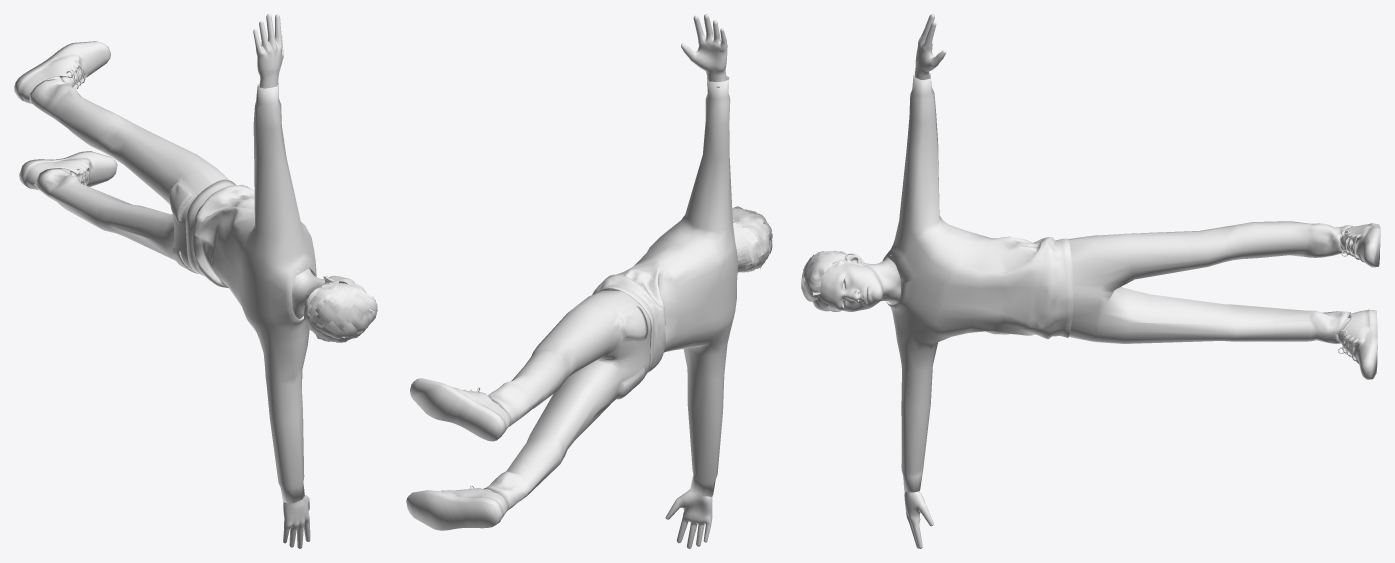
File: men131.gltf
3 renders of one model, left to right at view 1: azimuth 30°, elevation 25°; view 2: azimuth 150°, elevation 25°; view 3: azimuth 270°, elevation 25°, orthographic. The views are drawn at different scales.
Visible parts, largest first — view 1: Ch31_Sweater_网格.047; view 2: Ch31_Sweater_网格.047; view 3: Ch31_Sweater_网格.047.
Part boxes in pixels (<box>): Ch31_Sweater_网格.047: <box>14,14,377,548</box>; Ch31_Sweater_网格.047: <box>406,14,772,548</box>; Ch31_Sweater_网格.047: <box>801,14,1380,548</box>.
Bounding box in the file's own units: 0.3366 × 1.78 × 1.79.
1 material, 1 textured.
